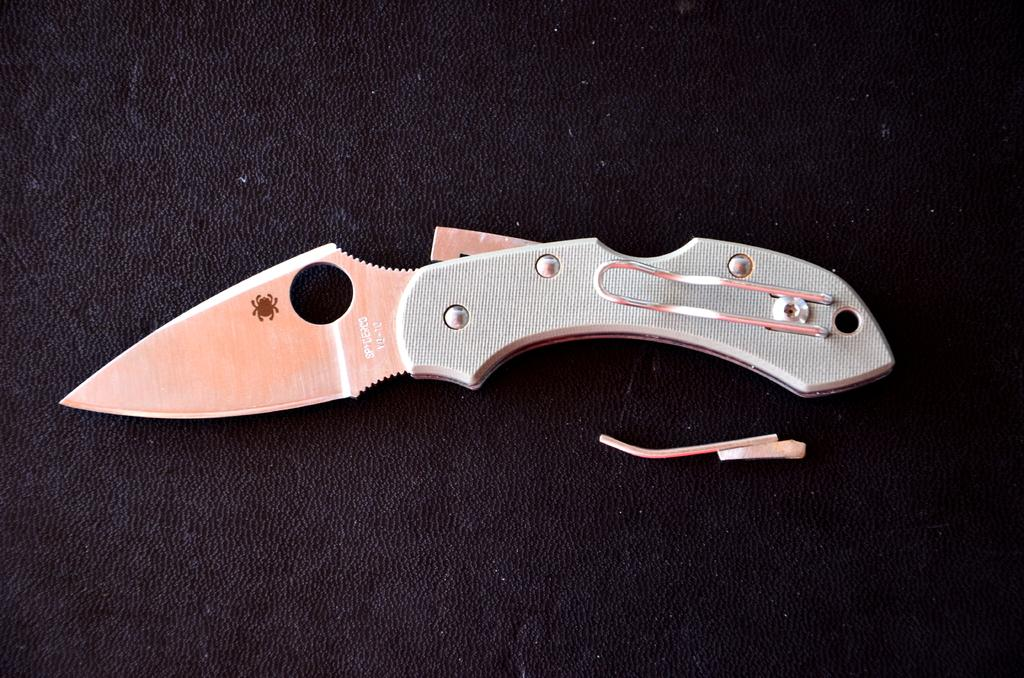Knife: (57, 220, 897, 425)
